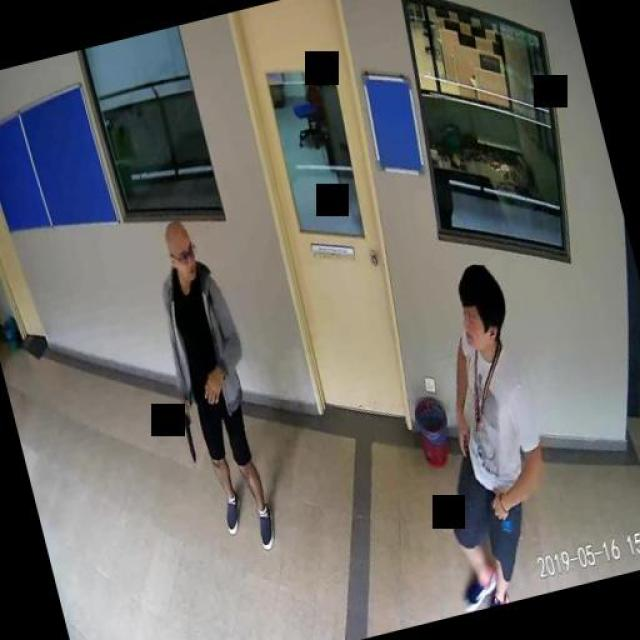gun: (178, 408, 200, 462)
